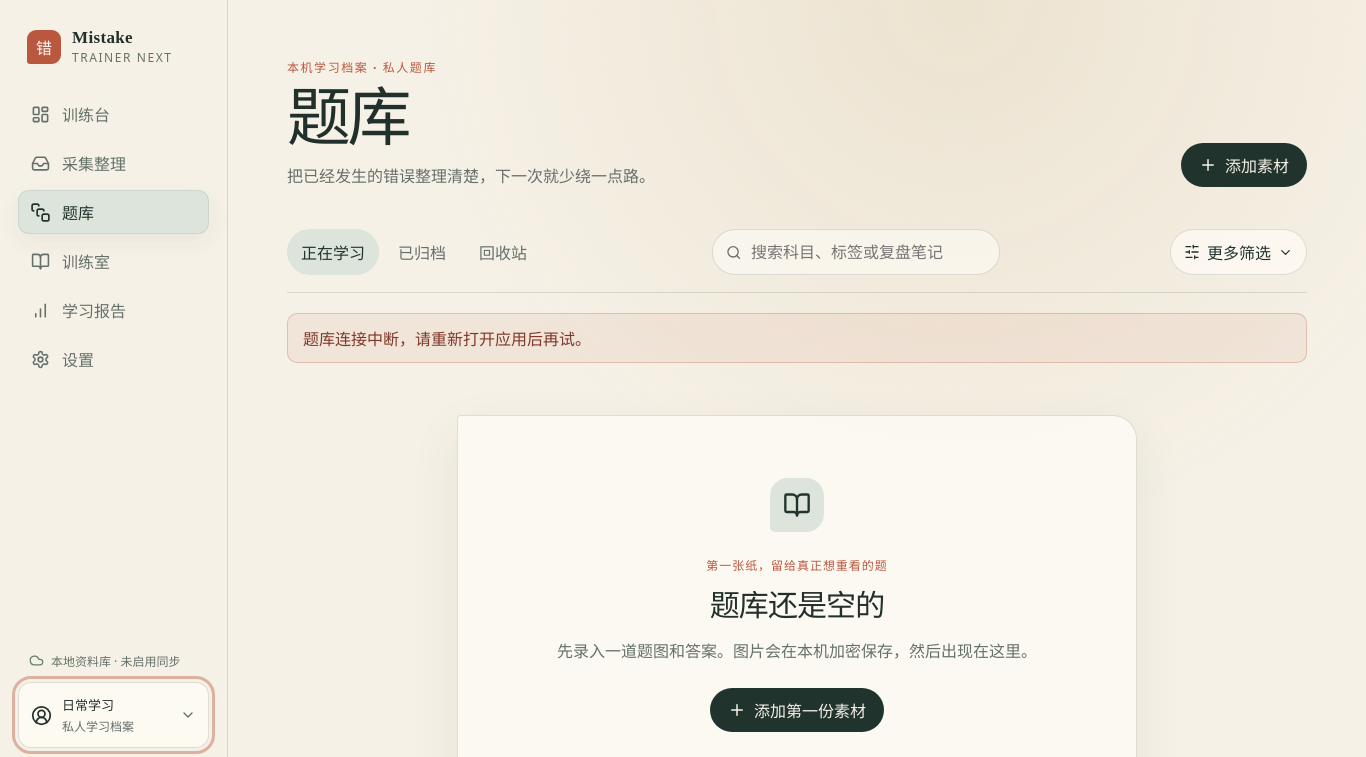
Scenario: App profile orchestration › switches the persisted profile, returns to the dashboard, and updates the shell
Click the button with aria-label "当前学习档案：日常学习" at coordinates (114, 715), box x1=18 y1=682 x2=209 y2=748
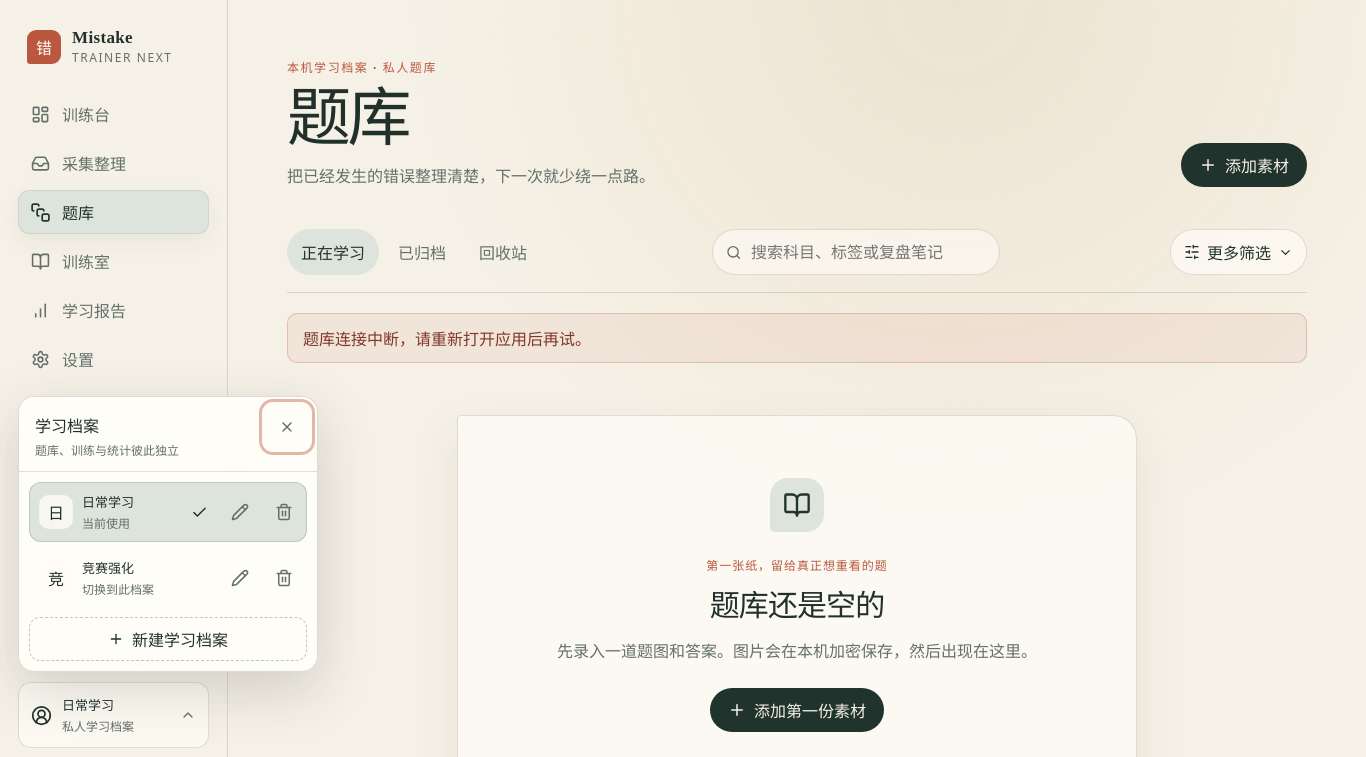
Click the button with aria-label "切换到档案：竞赛强化" at coordinates (124, 578), box x1=30 y1=549 x2=218 y2=607
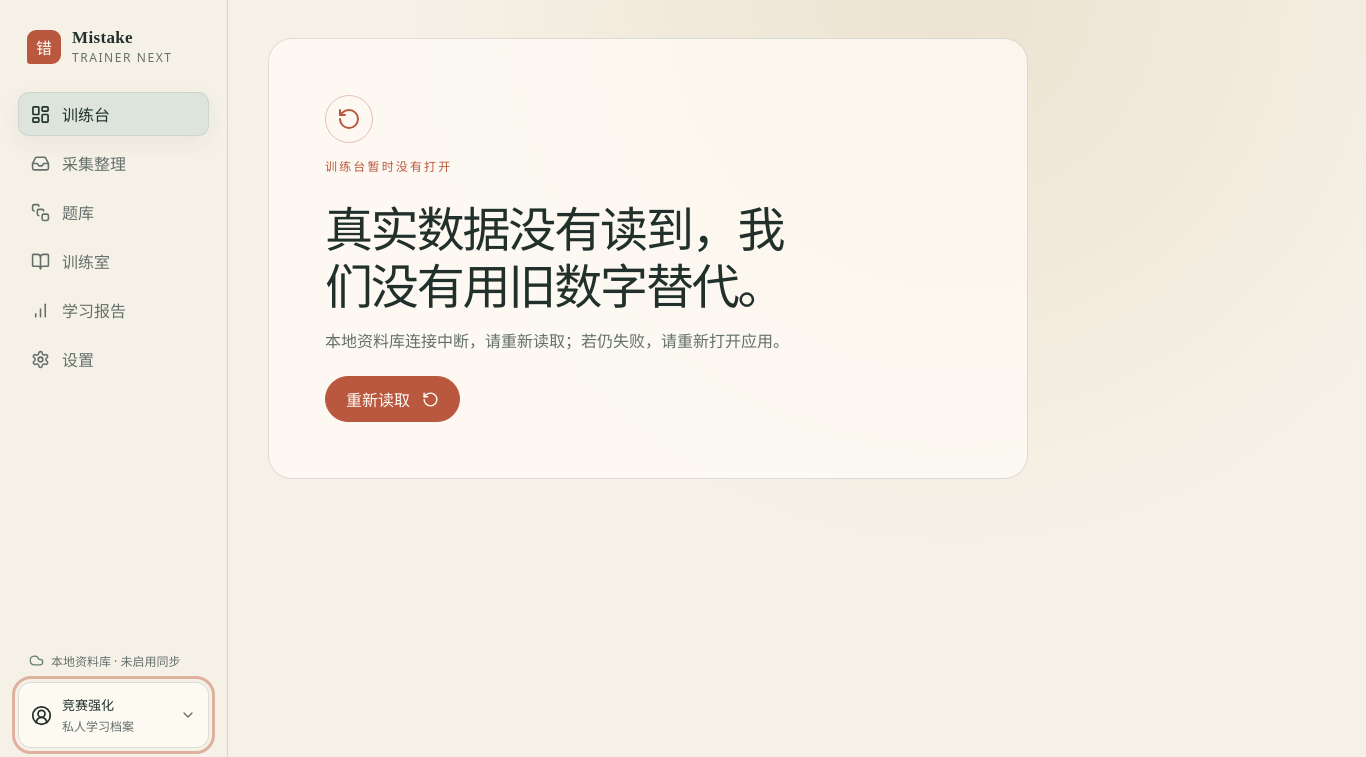
Now the button with aria-label "当前学习档案：竞赛强化" is shown, box x1=18 y1=682 x2=209 y2=748
